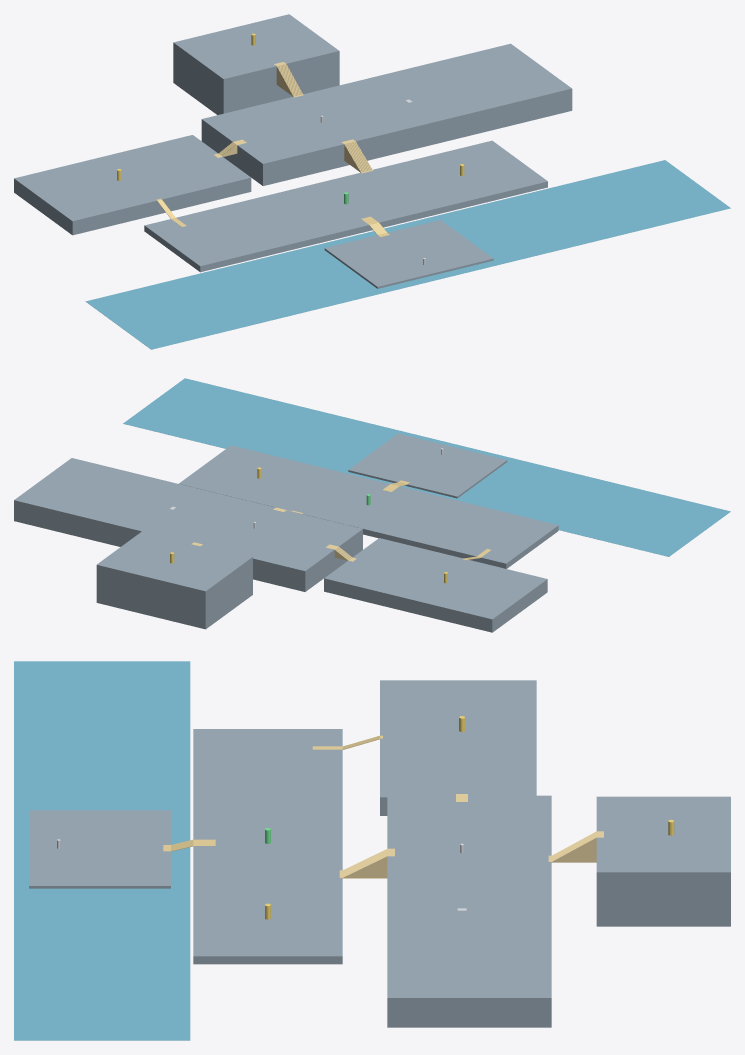
The model's file is greybox.glb.
3 views of the same model, one above another, from view 1: azimuth 30°, elevation 25°; view 2: azimuth 150°, elevation 25°; view 3: azimuth 270°, elevation 25° (orthographic). The views are drawn at different scales.
Parts seen in each view (by area): view 1: WATER_悲鳴低地黑沼, ZONE_lowertown, ZONE_ring, ZONE_college, ZONE_spire, ZONE_cloister, ZONE_causeway, LINK_ring-stair, LINK_spire-stair; view 2: WATER_悲鳴低地黑沼, ZONE_lowertown, ZONE_college, ZONE_ring, ZONE_spire, ZONE_cloister, ZONE_causeway; view 3: WATER_悲鳴低地黑沼, ZONE_lowertown, ZONE_cloister, ZONE_ring, ZONE_college, ZONE_spire, ZONE_causeway, LINK_ring-stair, LINK_spire-stair.
Part boxes in pixels (x1,y1,x2,y2): WATER_悲鳴低地黑沼: (85,160,730,349); ZONE_lowertown: (144,140,547,272); ZONE_ring: (201,76,436,185); ZONE_college: (14,135,251,235); ZONE_spire: (173,14,339,114); ZONE_cloister: (376,43,572,143); ZONE_causeway: (324,220,493,288); LINK_ring-stair: (341,139,373,173); LINK_spire-stair: (274,62,303,97); WATER_悲鳴低地黑沼: (123,378,730,556); ZONE_lowertown: (179,445,558,568); ZONE_college: (324,538,547,632); ZONE_ring: (141,489,362,591); ZONE_spire: (96,530,252,629); ZONE_cloister: (14,458,198,546); ZONE_causeway: (348,433,507,498); WATER_悲鳴低地黑沼: (14,661,190,1040); ZONE_lowertown: (193,729,342,964); ZONE_cloister: (387,909,551,1027); ZONE_ring: (387,795,551,909); ZONE_college: (380,680,536,815); ZONE_spire: (596,796,730,926); ZONE_causeway: (29,810,170,888); LINK_ring-stair: (339,848,394,878); LINK_spire-stair: (548,831,603,862).
Bounding box in the file's own units: 600 × 50.2 × 480.
